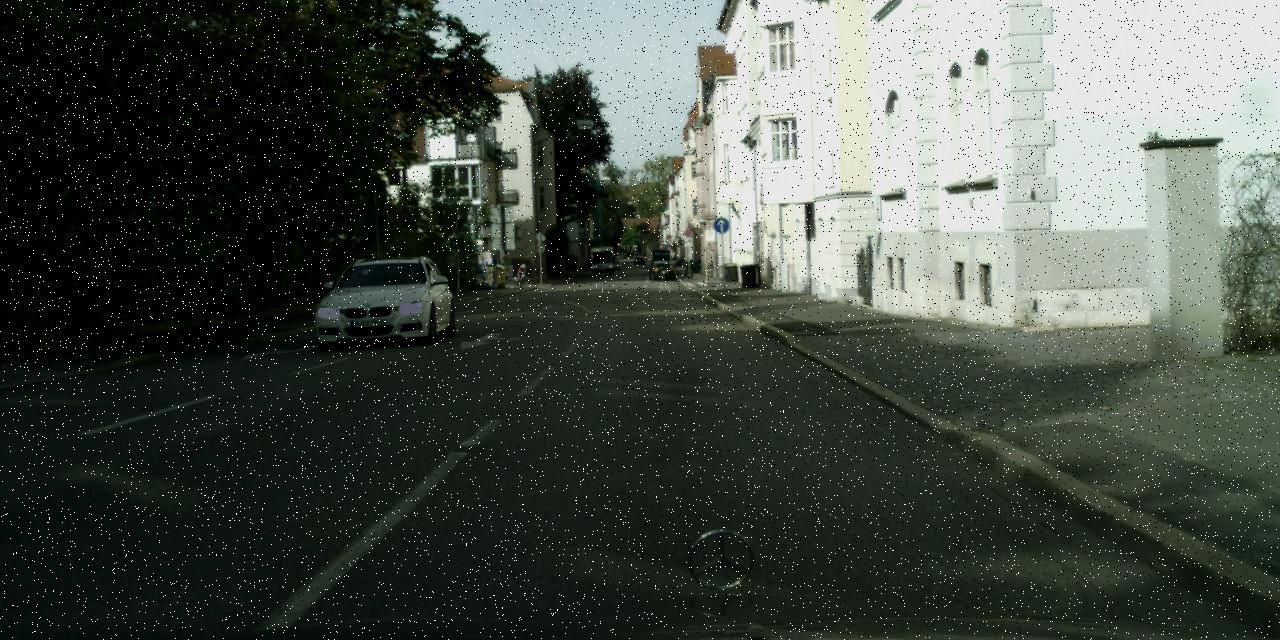ped: (516, 263, 525, 286)
